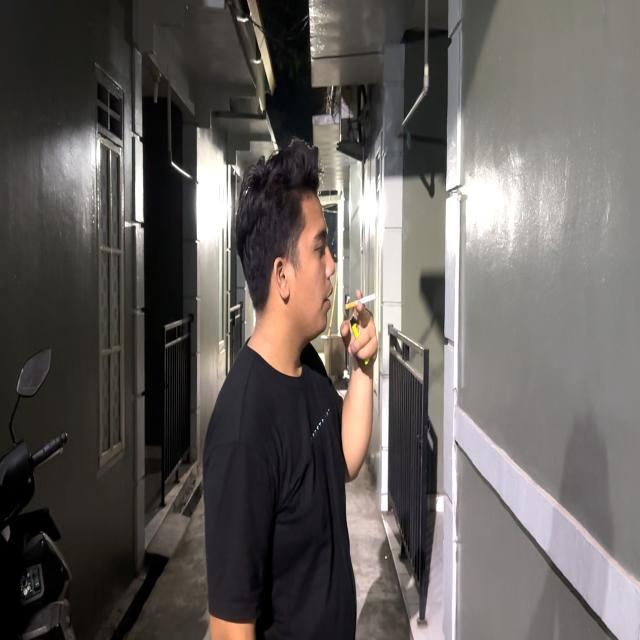cigarette: (345, 293, 377, 310)
smoking: (234, 135, 379, 484)
